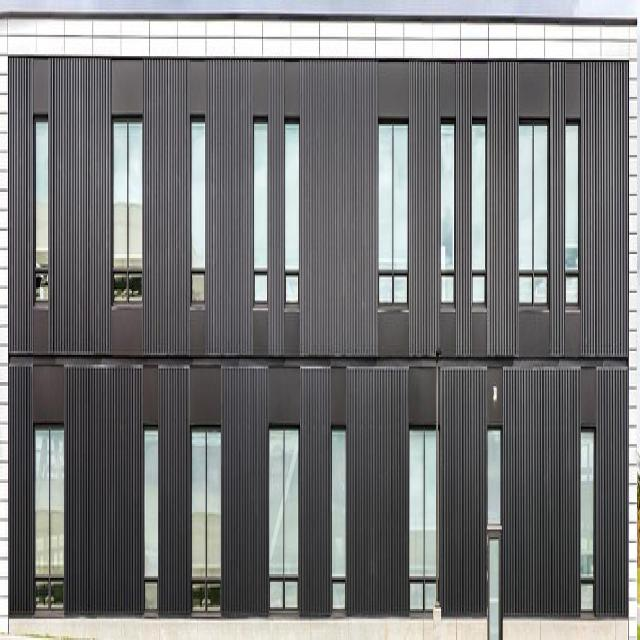door: (486, 521, 502, 640)
window: (408, 424, 440, 616), (34, 424, 64, 611), (269, 425, 299, 611), (191, 428, 221, 612), (518, 119, 547, 303), (378, 122, 407, 305), (113, 118, 142, 300), (581, 427, 596, 617), (471, 119, 486, 301), (144, 426, 158, 610), (191, 118, 205, 301), (440, 122, 454, 302), (254, 121, 268, 300), (285, 121, 299, 300), (565, 120, 578, 303), (332, 428, 345, 610), (35, 120, 48, 302), (486, 425, 502, 520)
